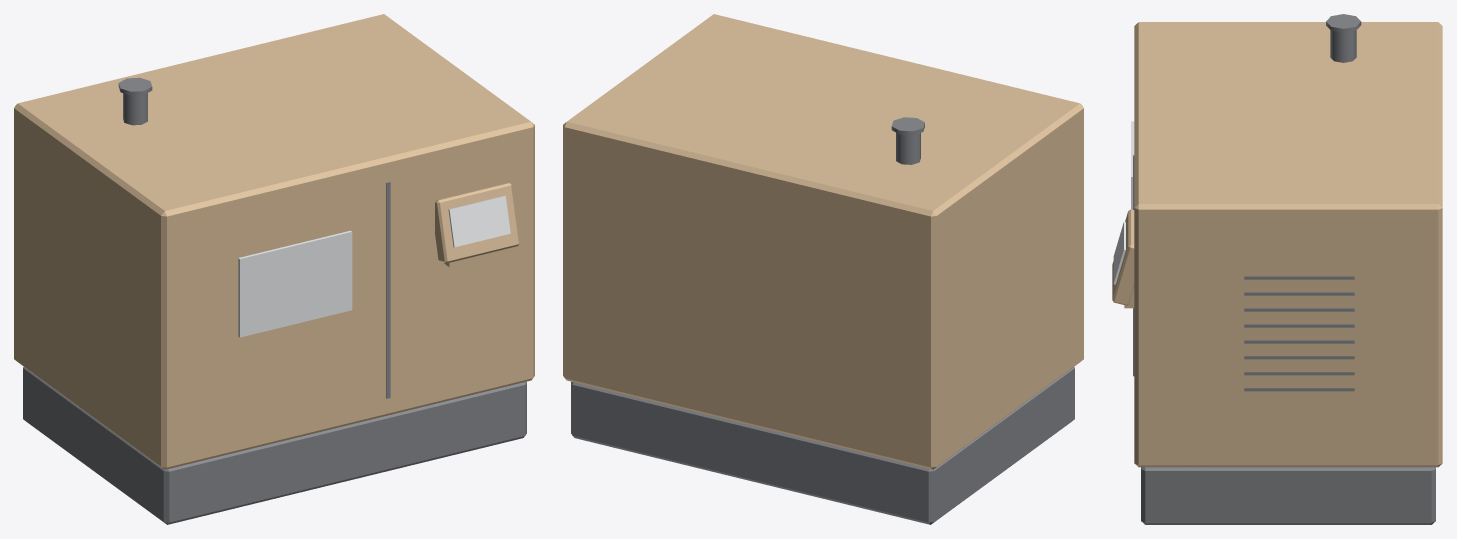
Rendered from machine.glb.
3 views of the same model, side by side, from view 1: azimuth 30°, elevation 25°; view 2: azimuth 150°, elevation 25°; view 3: azimuth 270°, elevation 25° (orthographic).
Visible parts, largest first — view 1: machine; view 2: machine; view 3: machine.
Boxes of the visible parts, left/top/right/bottom form: machine: left=14, top=14, right=534, bottom=524; machine: left=563, top=14, right=1083, bottom=524; machine: left=1112, top=14, right=1442, bottom=524.
Size of the model in its own units: 2 by 1.8 by 1.5.
